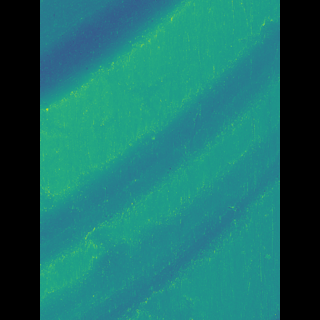Loch: (69, 21, 249, 320), (70, 0, 185, 113)
